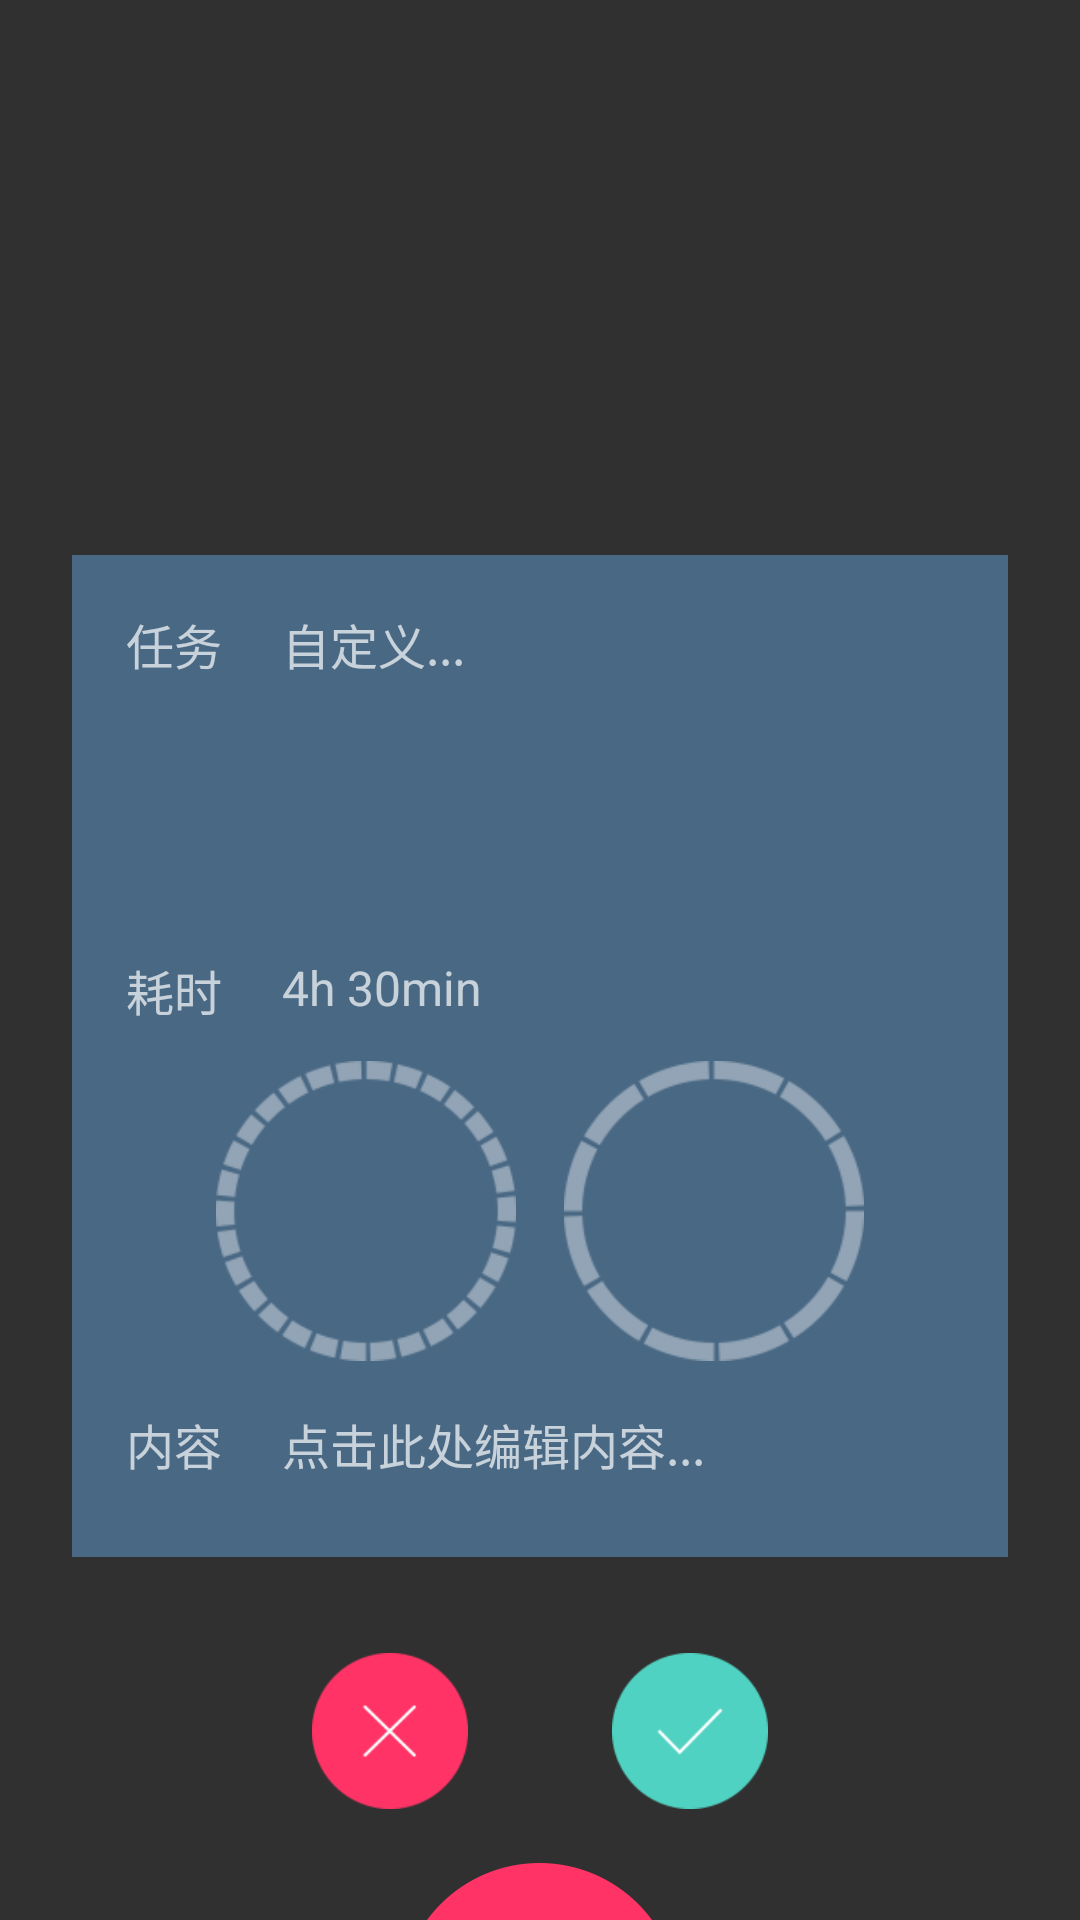

Locate icon controls on the screen. Image size 1080×1920, boxes as bbox=(x1, y1, x2, y2).
clock hour: bbox=(564, 1061, 864, 1361)
clock minute: bbox=(216, 1061, 516, 1361)
half circle: bbox=(427, 1863, 652, 1920)
